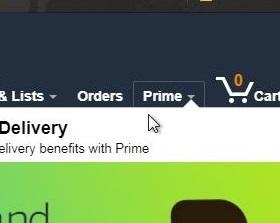cursor: (144, 111, 162, 134)
